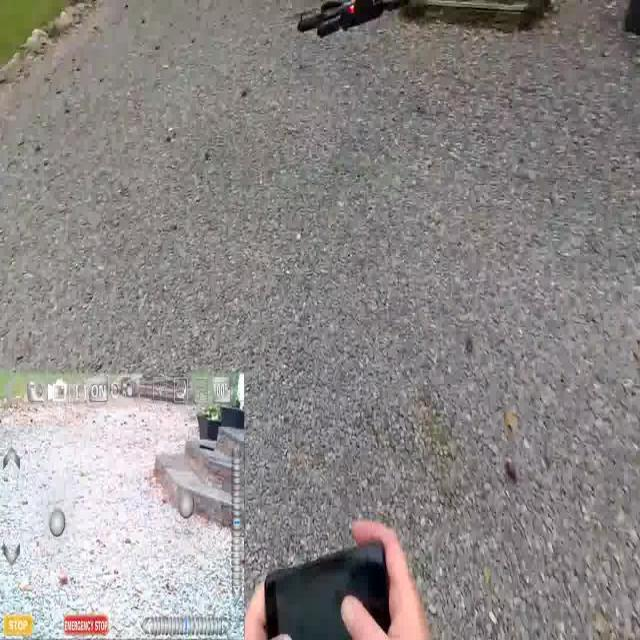drones: (284, 1, 427, 54)
